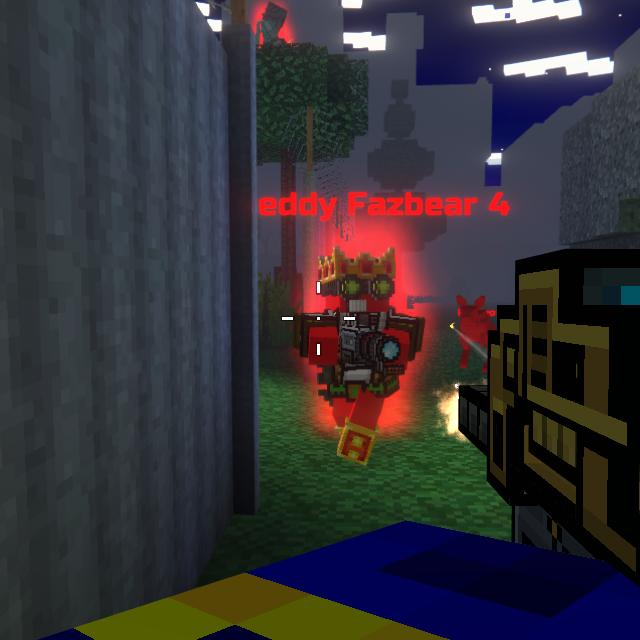Enemy: (306, 252, 425, 462), (258, 1, 293, 43)
